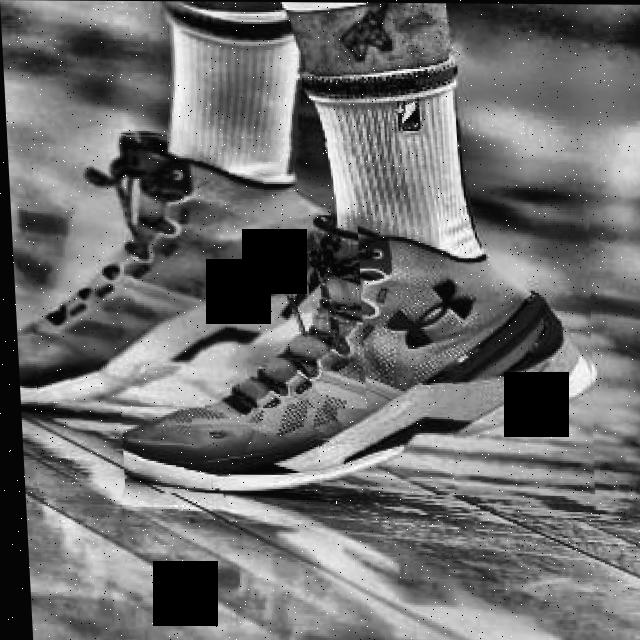shoe: (108, 205, 598, 495), (5, 130, 363, 408)
